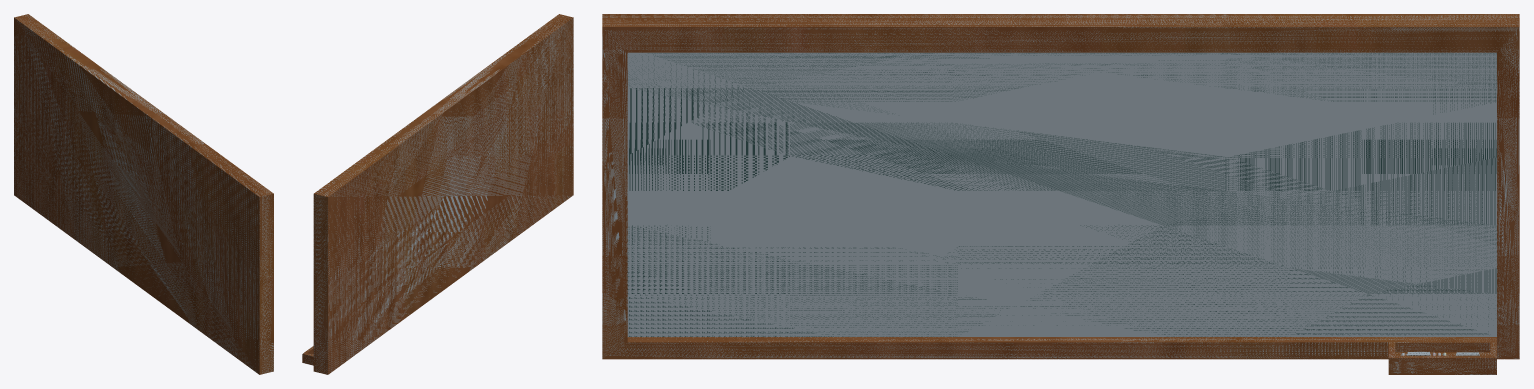
File: blackboard1.fbx
The picture shows the model from 3 angles, left to right: view 1: azimuth 30°, elevation 25°; view 2: azimuth 150°, elevation 25°; view 3: azimuth 270°, elevation 25°; orthographic projection. The views are drawn at different scales.
Parts seen in each view (by area): view 1: Model; view 2: Model; view 3: Model.
Part boxes in pixels (<box>): Model: <box>14,14,273,374</box>; Model: <box>302,14,573,374</box>; Model: <box>602,14,1519,374</box>.
Size of the model in its own units: 2.24 by 12.05 by 30.15.
